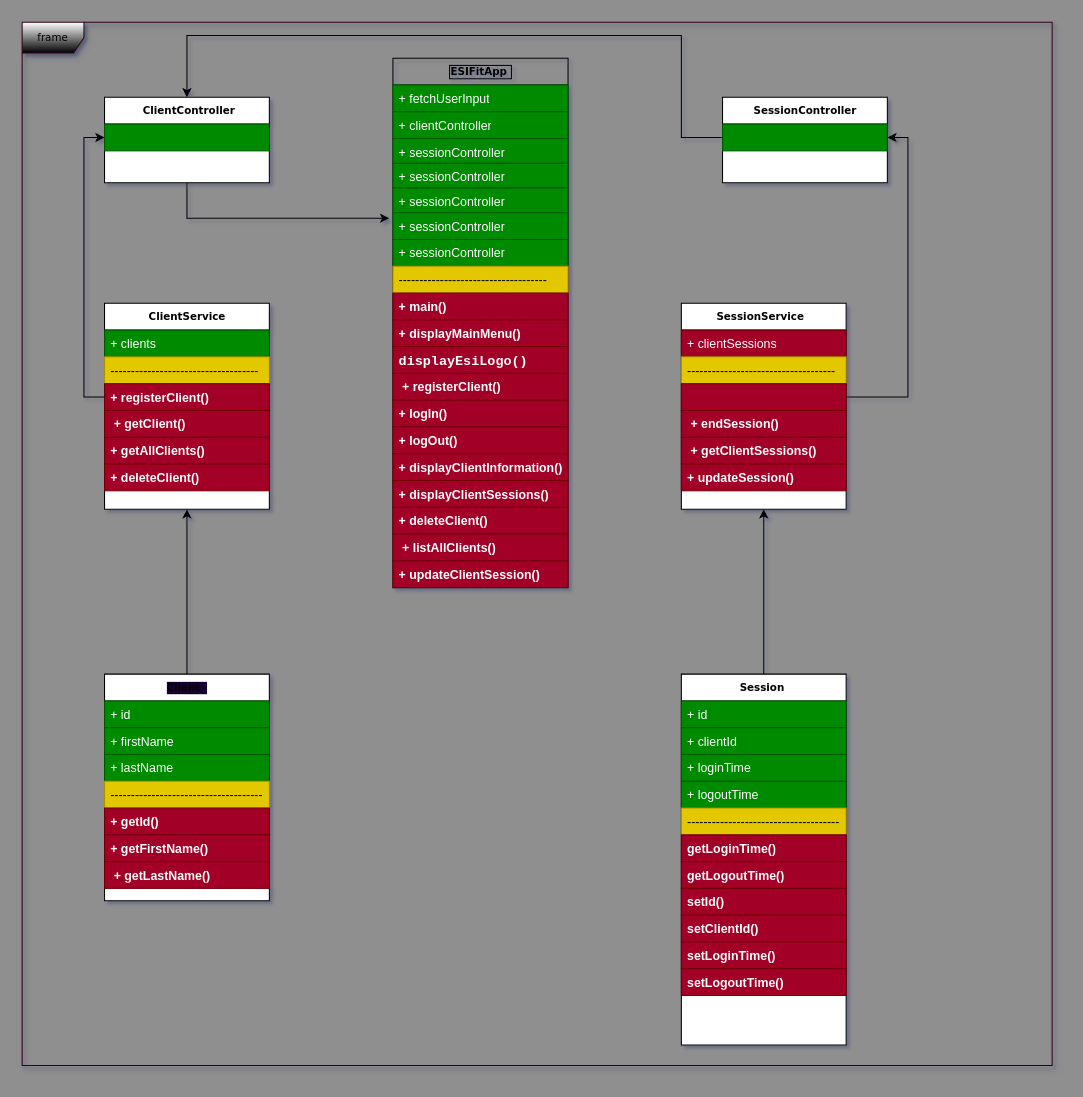
This 1083x1097 diagram has some shape labels left out. Each missing label, with the centre of its shape:
"+ clientService" goes at [186,137].
"+ sessionService" goes at [804,137].
"+ startSession()" goes at [763,396].
